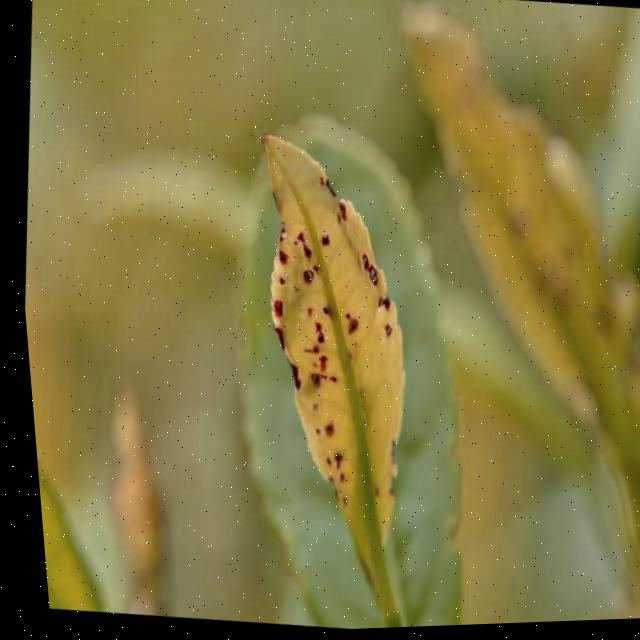Tea red scab: (244, 161, 428, 490)
